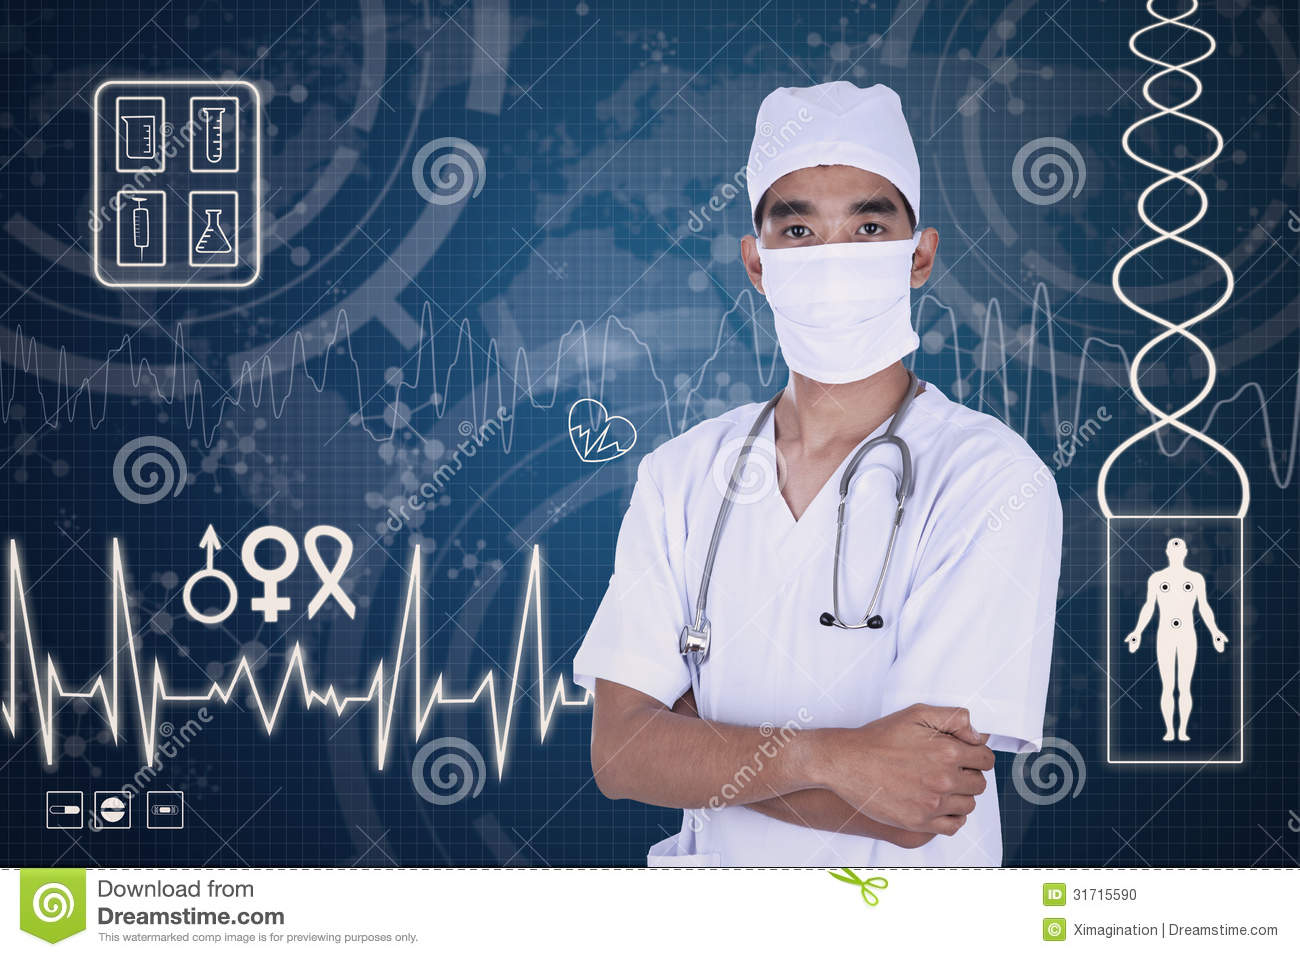mask: (769, 229, 931, 395)
